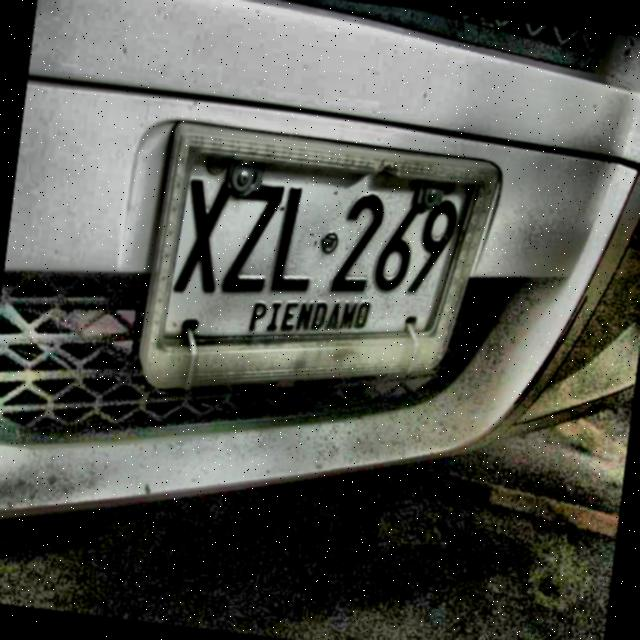plate: (164, 154, 476, 339)
